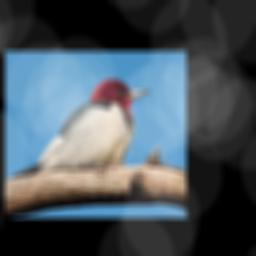Woodpecker: (11, 79, 150, 178)
